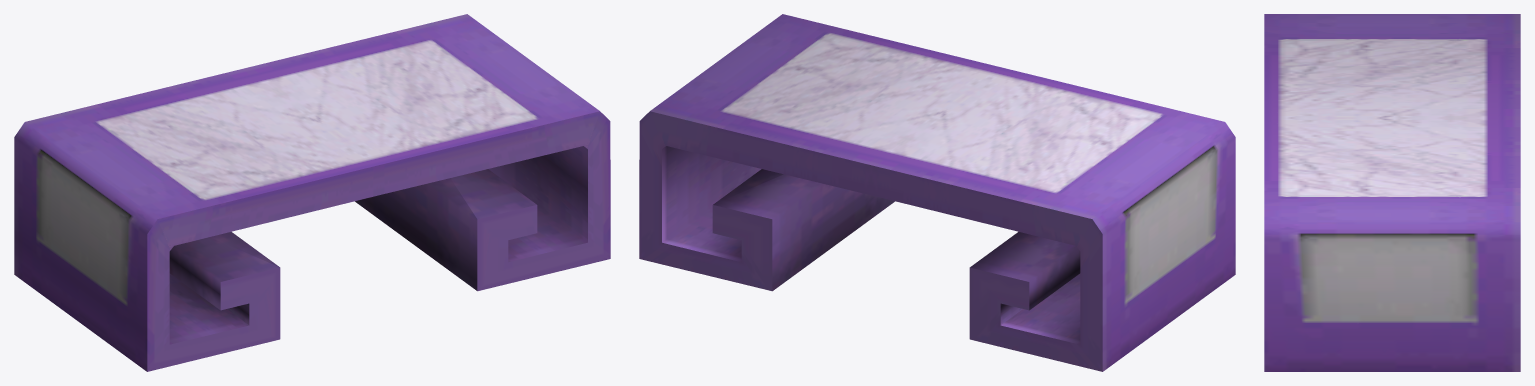
The model's file is furni_0200504_03.FBX.
3 renders of one model, left to right at view 1: azimuth 30°, elevation 25°; view 2: azimuth 150°, elevation 25°; view 3: azimuth 270°, elevation 25°, orthographic. The views are drawn at different scales.
Visible parts, largest first — view 1: furni_0200504_03; view 2: furni_0200504_03; view 3: furni_0200504_03.
Boxes of the visible parts, x1=… form: furni_0200504_03: x1=14, y1=14, x2=610, y2=371; furni_0200504_03: x1=639, y1=14, x2=1235, y2=371; furni_0200504_03: x1=1264, y1=14, x2=1520, y2=371.
Bounding box in the file's own units: 160 × 49.56 × 79.39.
1 material, 1 textured.
